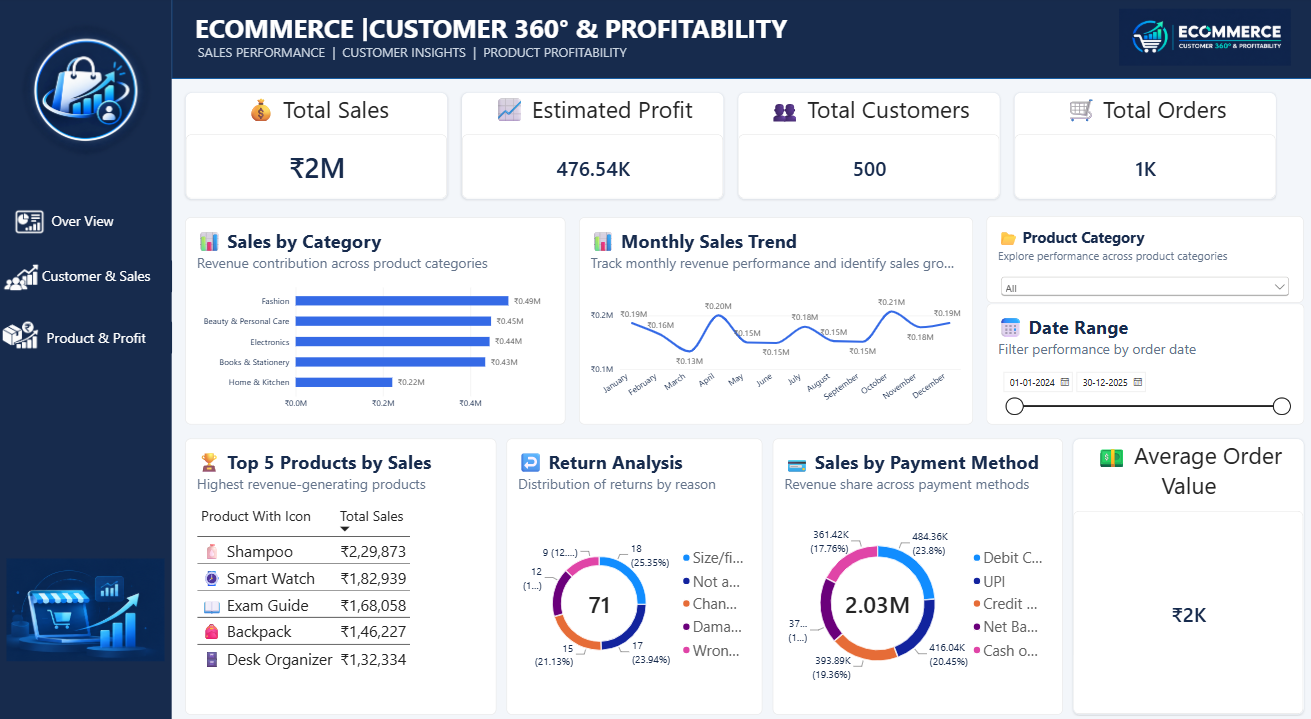

The dashboard page shown, as its layout file describes it:
{"tool":"powerbi","page":{"name":"Overview","canvas":[1920,1080],"ordinal":0},"visuals":[{"type":"shape","box":[250,0,1670,120],"z":0},{"type":"textbox","box":[287,68,1500,25],"z":1000},{"type":"textbox","box":[284,20.6,1500,45.3],"z":2000},{"type":"cardVisual","title":"💰 Total Sales","fields":{"Data":["customers.Total Sales"]},"box":[270,140,380,155],"z":3000},{"type":"cardVisual","title":"📈 Estimated Profit","fields":{"Data":["customers.Estimated Profit"]},"box":[670,140,380,155],"z":4000},{"type":"cardVisual","title":"👥 Total Customers","fields":{"Data":["customers.Total Customers"]},"box":[1070,140,380,155],"z":5000},{"type":"cardVisual","title":"🛒 Total Orders","fields":{"Data":["customers.Total Orders"]},"box":[1470,140,380,155],"z":6000},{"type":"lineChart","title":"📊 Monthly Sales Trend","fields":{"Category":["orders.order_date.Variation.Date Hierarchy.Year","orders.order_date.Variation.Date Hierarchy.Month"],"Y":["customers.Total Sales"]},"box":[840,320,570,300],"z":7000},{"type":"clusteredBarChart","title":"📊 Sales by Category","fields":{"Category":["products.category"],"Y":["customers.Total Sales"]},"box":[270,320,550,300],"z":8000},{"type":"donutChart","title":"💳 Sales by Payment Method","fields":{"Category":["payments.payment_method"],"Y":["Sum(payments.payment_amount_inr)"]},"box":[1120,640,420,400],"z":9000},{"type":"tableEx","title":"🏆 Top 5 Products by Sales","fields":{"Values":["products.Product With Icon","customers.Total Sales"]},"box":[270,640,450,400],"z":10000},{"type":"donutChart","title":"↩️ Return Analysis","fields":{"Category":["returns.return_reason"],"Y":["returns.Returned Orders"]},"box":[735,640,370,400],"z":11000},{"type":"slicer","title":"📅 Date Range","fields":{"Values":["orders.order_date"]},"box":[1430,445,460,175],"z":12000},{"type":"slicer","title":"📂 Product Category","fields":{"Values":["products.category"]},"box":[1430.5,319,459,125.6],"z":13000},{"type":"shape","box":[0,0,250,1080.6],"z":14000},{"type":"actionButton","box":[10.9,302.2,220,48],"z":15000},{"type":"actionButton","box":[30.8,381.8,220,48],"z":16000},{"type":"actionButton","box":[30,470.5,220,48],"z":17000},{"type":"cardVisual","title":"💵 Average Order Value","fields":{"Data":["customers.Average Order Value"]},"box":[1555,640,335,400],"z":18000},{"type":"image","box":[1622,0,249.1,119.4],"z":18001},{"type":"image","box":[1.8,25.3,249.1,226.4],"z":18002},{"type":"image","box":[10.3,738.9,228.5,300.5],"z":18003},{"type":"image","box":[1.8,300.4,85.1,48.9],"z":18004},{"type":"image","box":[0,381.8,59.7,48.9],"z":18005},{"type":"image","box":[1.8,407.2,57.9,164.7],"z":18006}]}

Visuals, with their boxes on the page's 1920x1080 design canvas (x1, y1, x2, y2). These are canvas units, not pixel positions in the 1311x719 screenshot, which may show the page scaled, cropped or inside an application window:
shape: [250,0,1920,120]
textbox: [287,68,1787,93]
textbox: [284,21,1784,66]
"💰 Total Sales" cardVisual: [270,140,650,295]
"📈 Estimated Profit" cardVisual: [670,140,1050,295]
"👥 Total Customers" cardVisual: [1070,140,1450,295]
"🛒 Total Orders" cardVisual: [1470,140,1850,295]
"📊 Monthly Sales Trend" lineChart: [840,320,1410,620]
"📊 Sales by Category" clusteredBarChart: [270,320,820,620]
"💳 Sales by Payment Method" donutChart: [1120,640,1540,1040]
"🏆 Top 5 Products by Sales" tableEx: [270,640,720,1040]
"↩️ Return Analysis" donutChart: [735,640,1105,1040]
"📅 Date Range" slicer: [1430,445,1890,620]
"📂 Product Category" slicer: [1430,319,1890,445]
shape: [0,0,250,1081]
actionButton: [11,302,231,350]
actionButton: [31,382,251,430]
actionButton: [30,470,250,518]
"💵 Average Order Value" cardVisual: [1555,640,1890,1040]
image: [1622,0,1871,119]
image: [2,25,251,252]
image: [10,739,239,1039]
image: [2,300,87,349]
image: [0,382,60,431]
image: [2,407,60,572]
